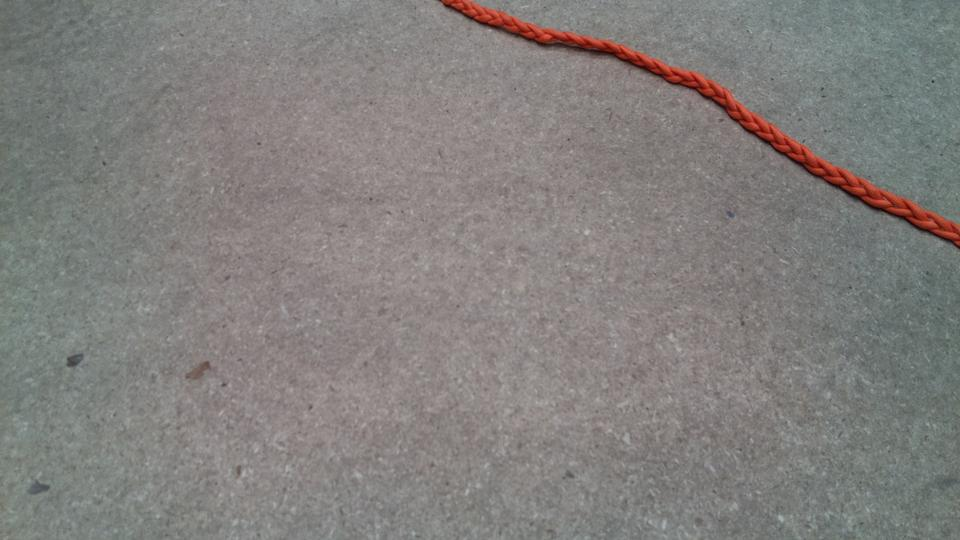rope: (469, 1, 960, 234)
